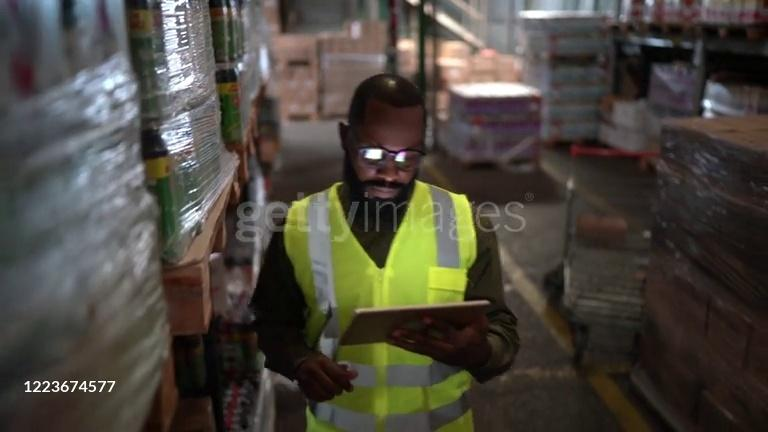person: (250, 72, 521, 432)
